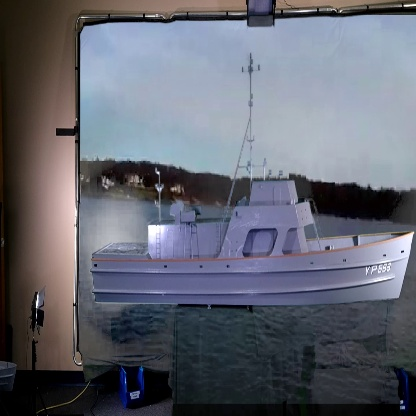YP689: (89, 49, 413, 311)
